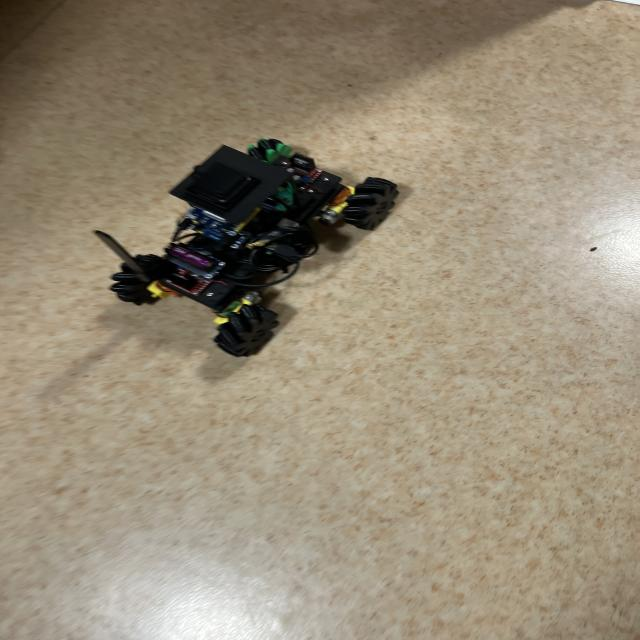robot: (95, 138, 398, 357)
